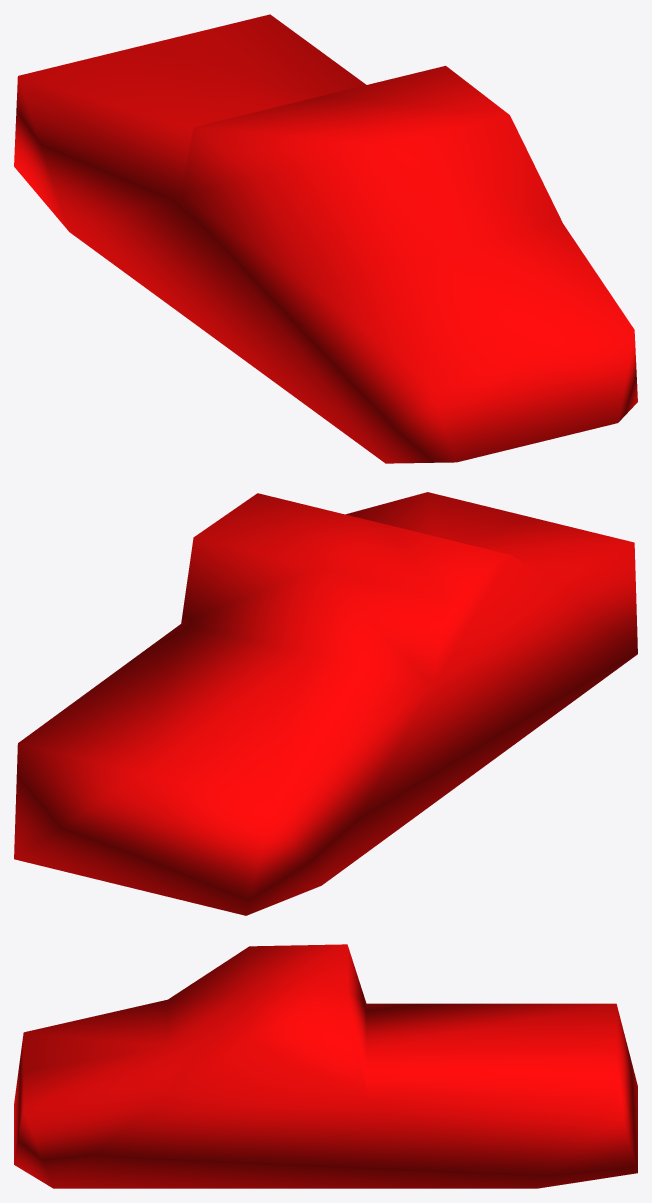
The model's file is car_0012_collider.fbx.
The picture shows the model from 3 angles, top to bottom: view 1: azimuth 30°, elevation 25°; view 2: azimuth 150°, elevation 25°; view 3: azimuth 270°, elevation 25°; orthographic projection. The views are drawn at different scales.
Parts seen in each view (by area): view 1: Mesh; view 2: Mesh; view 3: Mesh.
Part boxes in pixels (left/top/right/bottom): Mesh: left=14, top=14, right=637, bottom=463; Mesh: left=14, top=492, right=637, bottom=915; Mesh: left=14, top=944, right=637, bottom=1188.
Size of the model in its own units: 181 by 134 by 507.
